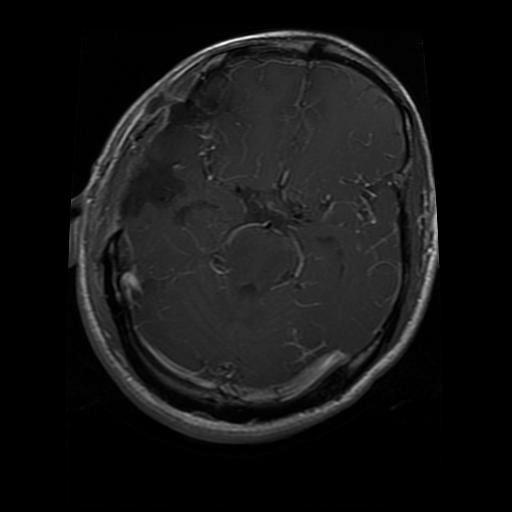Tumour-Glioma: (136, 89, 208, 229)
